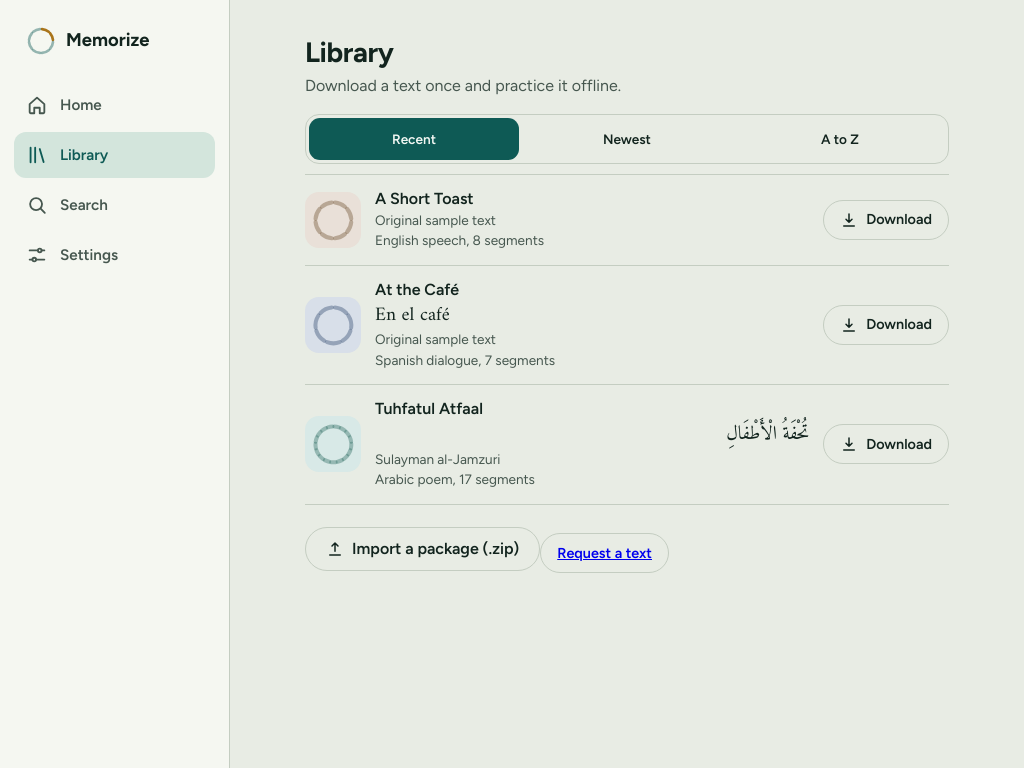
Test case: Library › downloads a text with visible progress, then offers Open and shows a toast
Click the button "Download" next to "تُحْفَةُ الْأَطْفَالِ" at (886, 444), box x1=823 y1=424 x2=949 y2=464
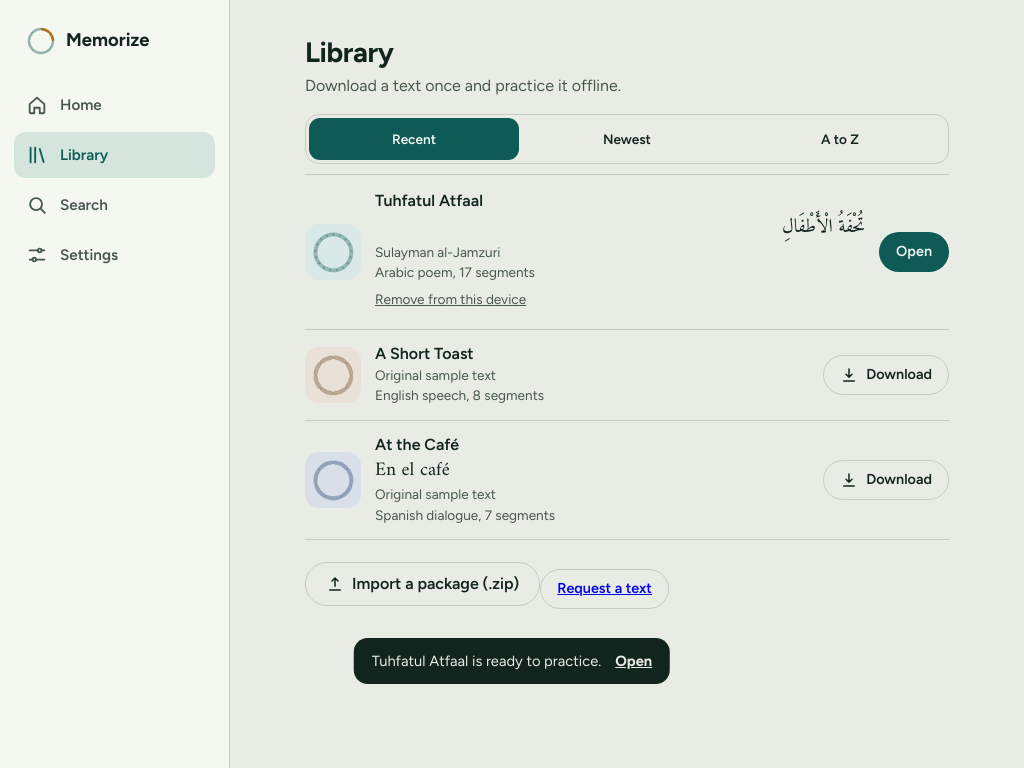
Result: the message shows "Tuhfatul Atfaal is ready to practice." at x1=372 y1=652 x2=601 y2=670
Result: the button "Open" next to "تُحْفَةُ الْأَطْفَالِ" is shown at x1=879 y1=232 x2=949 y2=272
Result: the button "Remove from this device" is shown at x1=375 y1=283 x2=526 y2=315
